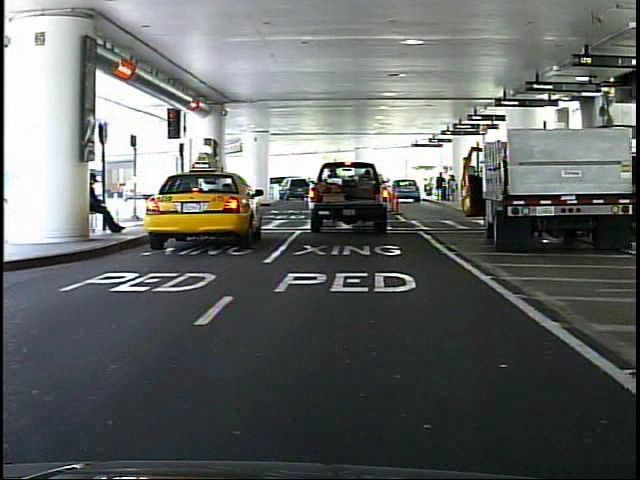person: (89, 170, 127, 238), (170, 167, 191, 218)
